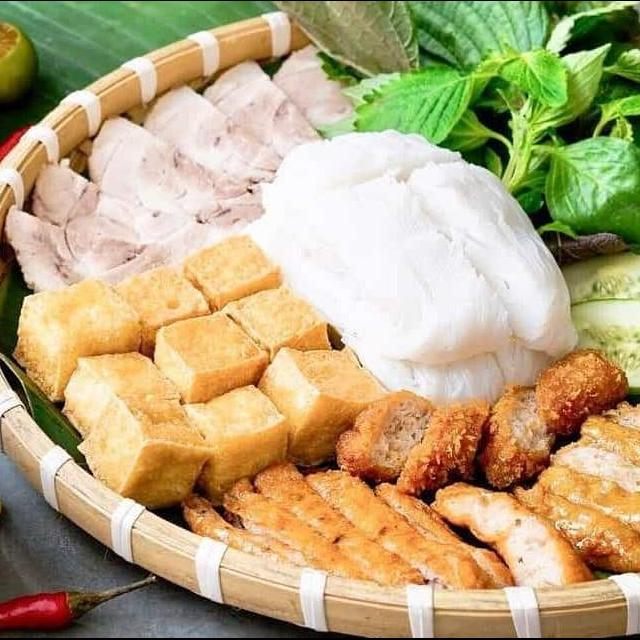bun: (232, 117, 595, 406)
bun dau: (0, 25, 640, 638)
cha com: (174, 458, 602, 608), (331, 348, 630, 500), (509, 391, 640, 583)
dau hu: (6, 272, 161, 408), (63, 394, 214, 516), (258, 336, 394, 461), (176, 374, 297, 492), (214, 278, 345, 378), (148, 306, 280, 404), (102, 256, 218, 361), (176, 228, 288, 330)
thit heo: (80, 108, 273, 238), (15, 160, 224, 260), (136, 80, 285, 210), (0, 199, 191, 298), (198, 49, 334, 162), (271, 36, 378, 136)
